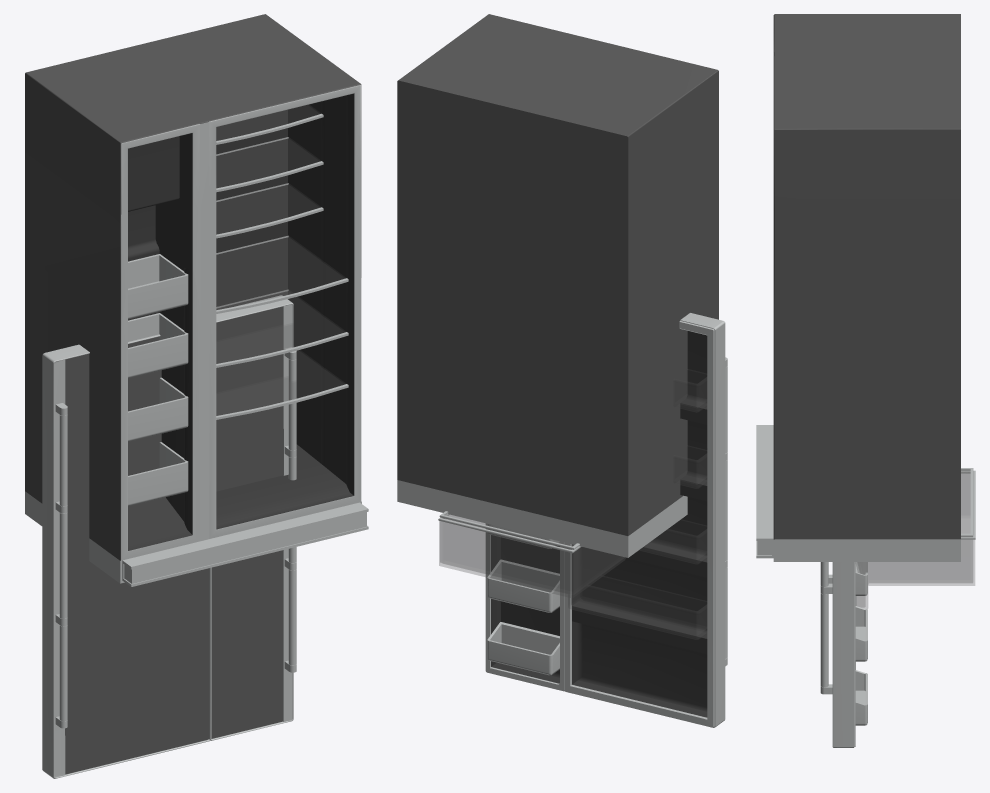
File: Fridge_29.obj
3 views of the same model, side by side, from view 1: azimuth 30°, elevation 25°; view 2: azimuth 150°, elevation 25°; view 3: azimuth 270°, elevation 25° (orthographic). The views are drawn at different scales.
Parts seen in each view (by area): view 1: FridgeBodyMesh_0, Mesh_4, Mesh_3; view 2: FridgeBodyMesh_0, Mesh_4, Mesh_3, fridge_drawer1_24_1, fridge_drawer2_24_2; view 3: FridgeBodyMesh_0, Mesh_3, fridge_drawer1_24_1, fridge_drawer2_24_2.
Part boxes in pixels (<box>): FridgeBodyMesh_0: <box>25,14,368,586</box>; Mesh_4: <box>42,334,211,778</box>; Mesh_3: <box>209,295,296,740</box>; FridgeBodyMesh_0: <box>397,14,718,557</box>; Mesh_4: <box>564,313,727,727</box>; Mesh_3: <box>485,523,564,691</box>; fridge_drawer1_24_1: <box>438,514,625,597</box>; fridge_drawer2_24_2: <box>439,511,624,594</box>; FridgeBodyMesh_0: <box>756,14,960,561</box>; Mesh_3: <box>820,562,867,747</box>; fridge_drawer1_24_1: <box>857,470,975,585</box>; fridge_drawer2_24_2: <box>856,468,973,582</box>.
Size of the model in its own units: 1.43 by 3.32 by 0.9978.
